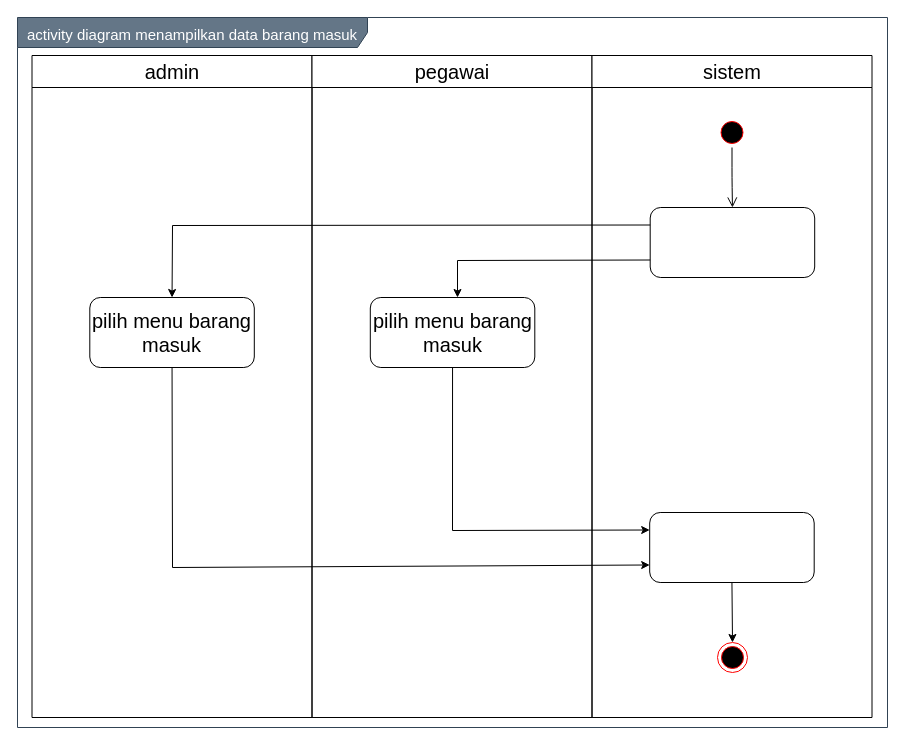
Image size: 905x745. Some labels were removed from this diagram. The shapes that lost their labels are listed below. From the top down, each one's centre as x and y in pixels, then its label:
At (x=732, y=242): "menampilkan dashboard sesuai rolenya".
At (x=731, y=547): "menampilkan data barang masuk".
